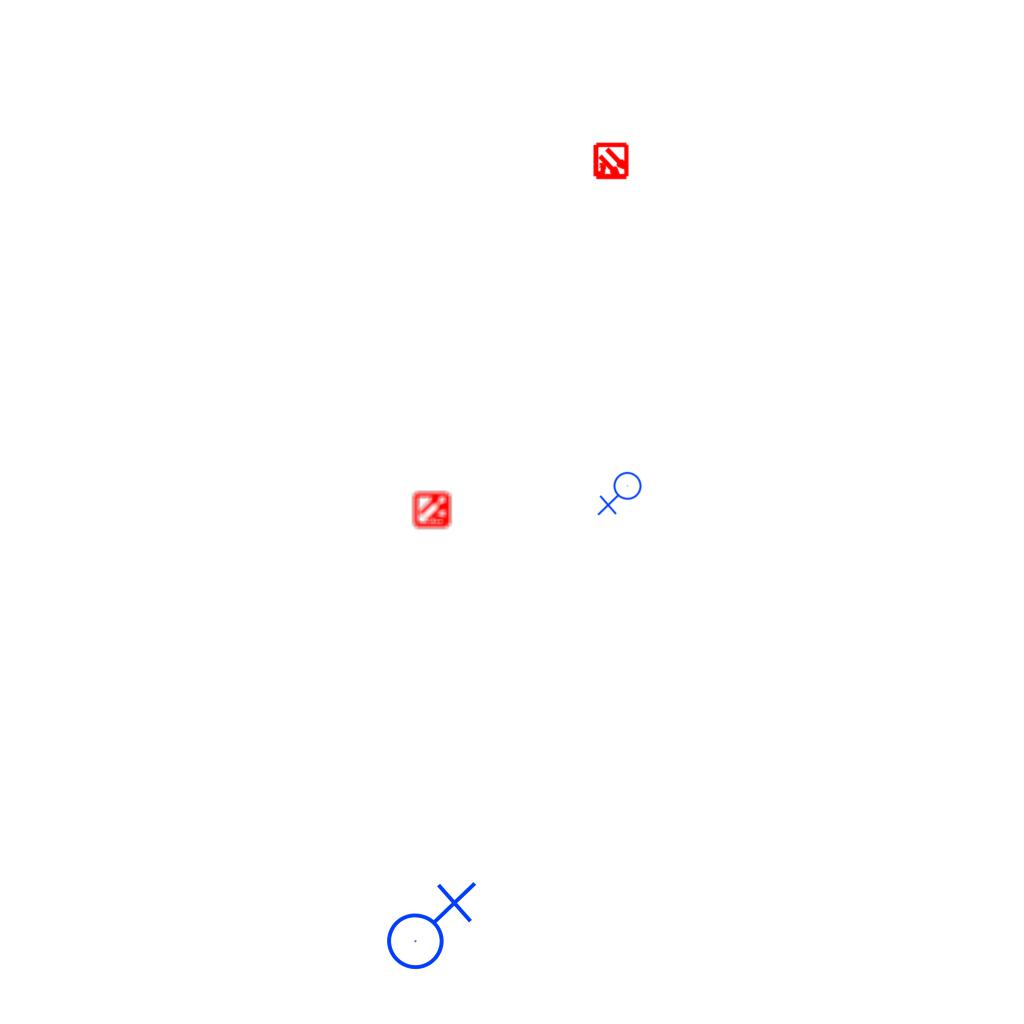Elektroanschluss_allgemein_230V_Geraeteanschlussdose_230V: (378, 877, 477, 971), (597, 471, 646, 518)
OT_Multisensormelder_(Kombination_RMO_WMD): (405, 482, 461, 538), (583, 134, 639, 190)
